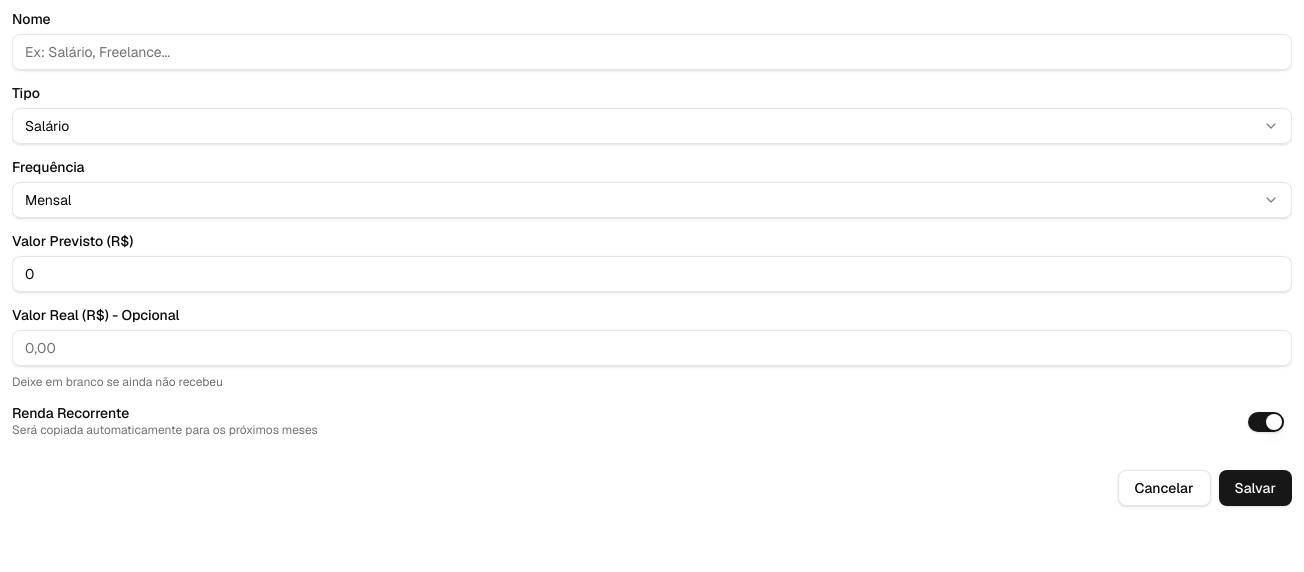
Scenario: IncomeForm › should_validate_required_name_field
The width and height of the screenshot is (1304, 572).
Click the button with test id "income-form-submit". click: (1255, 488)
box: 1218,470 -> 1292,506
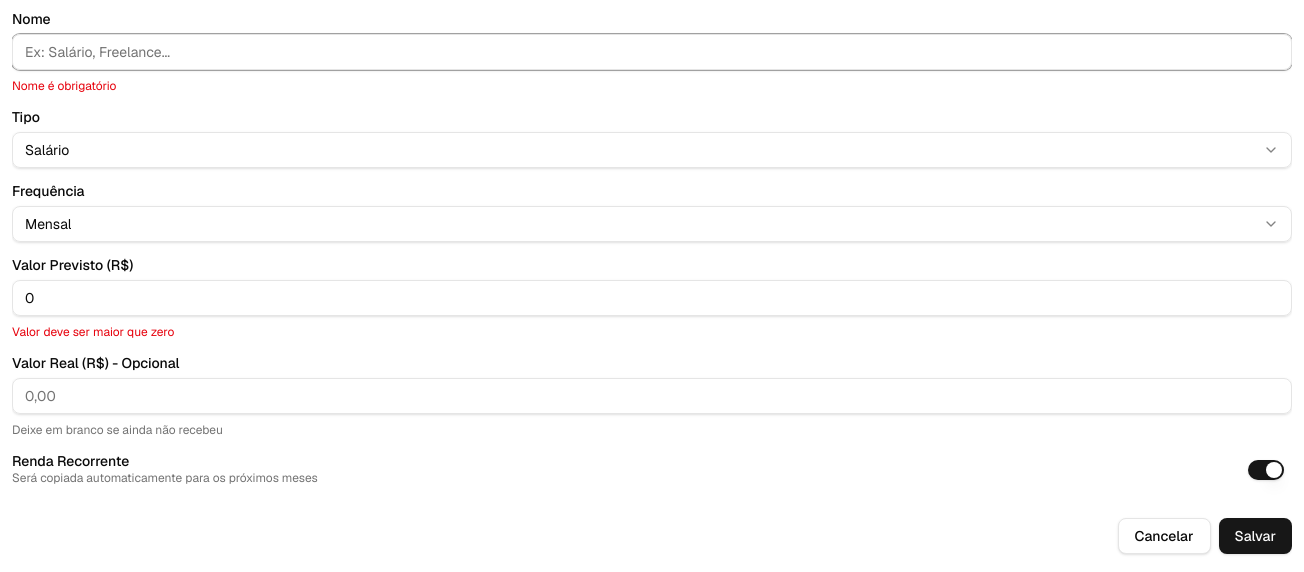
Now the text "Nome é obrigatório" is shown, box 12,78 -> 116,94
